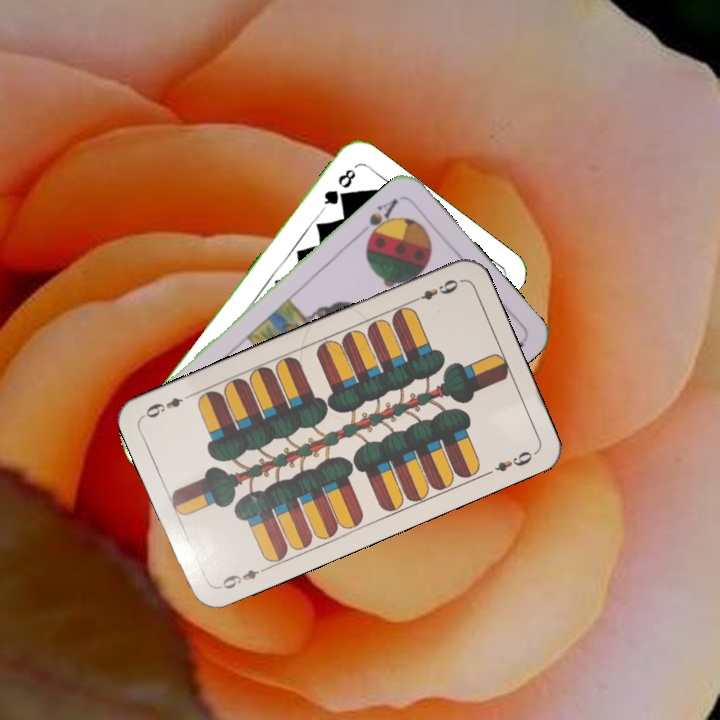E9: (407, 275, 461, 306), (214, 563, 271, 592)
G8: (318, 164, 359, 213)
SA: (363, 194, 401, 245)
